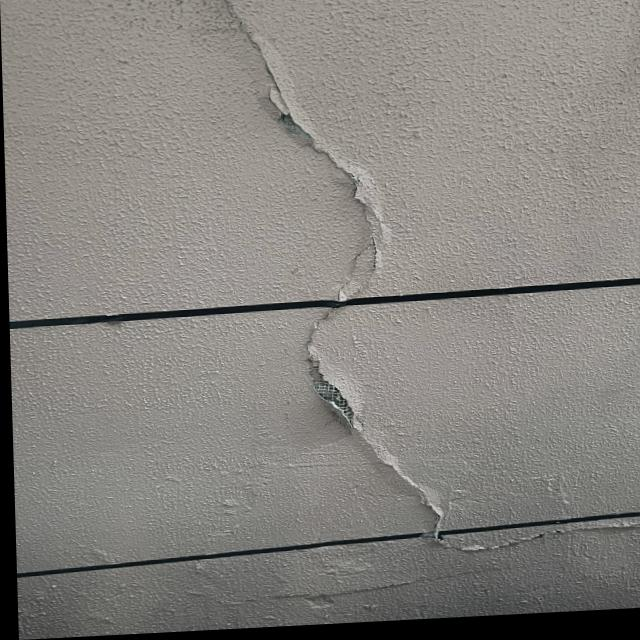crack: (201, 0, 633, 552)
